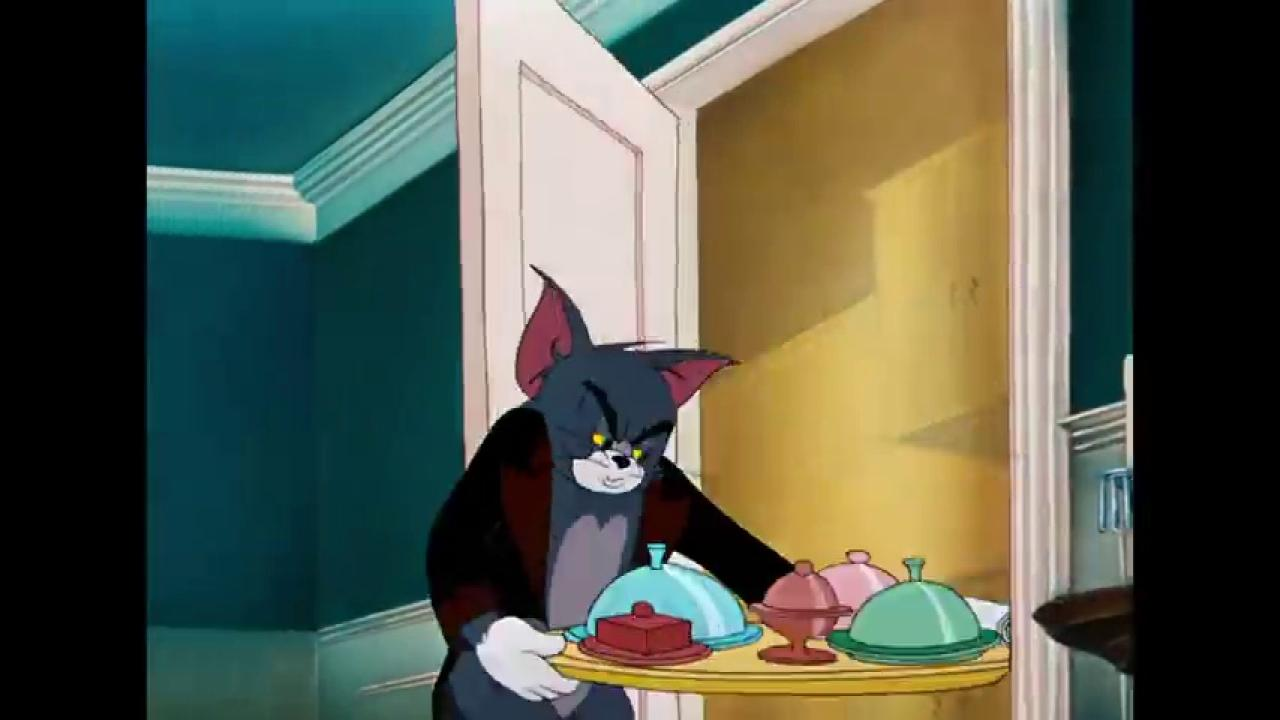Tom: (423, 261, 797, 720)
